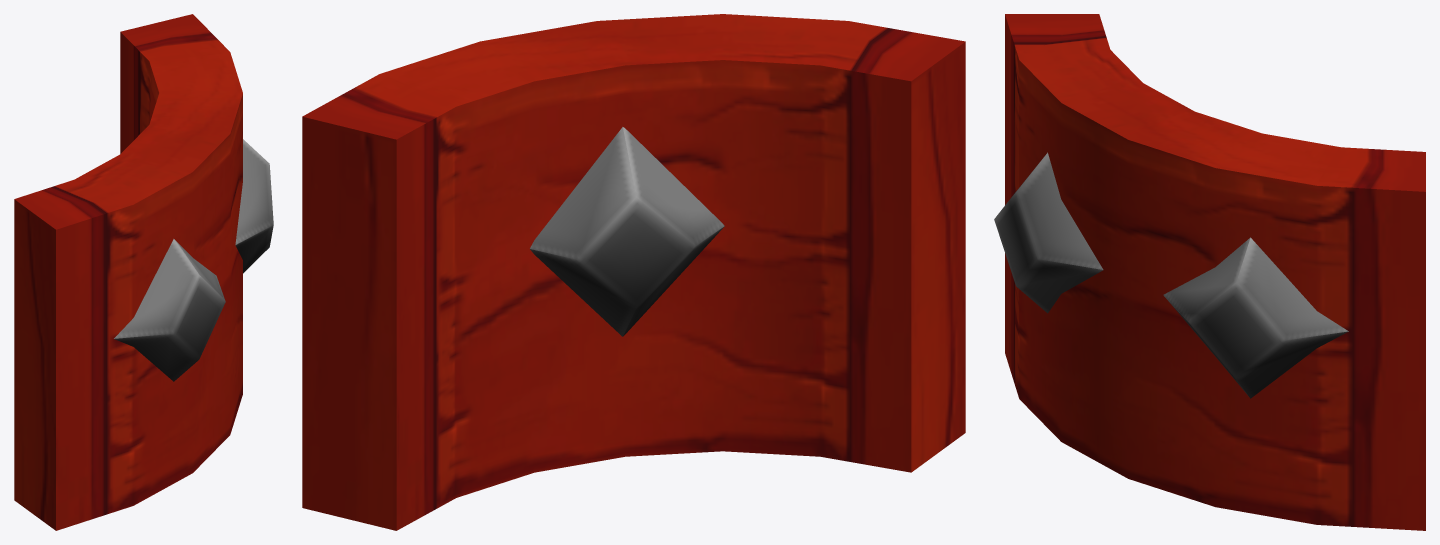
File: arched_fence_red_01.fbx
The picture shows the model from 3 angles, left to right: view 1: azimuth 30°, elevation 25°; view 2: azimuth 150°, elevation 25°; view 3: azimuth 270°, elevation 25°; orthographic projection. The views are drawn at different scales.
Visible parts, largest first — view 1: arched_fence_red_01; view 2: arched_fence_red_01; view 3: arched_fence_red_01.
Part boxes in pixels (box(x1,y1,x2,y2)): arched_fence_red_01: box(14, 14, 273, 530); arched_fence_red_01: box(302, 14, 965, 530); arched_fence_red_01: box(994, 14, 1425, 530).
Bounding box in the file's own units: 46.28 × 40 × 46.16.
